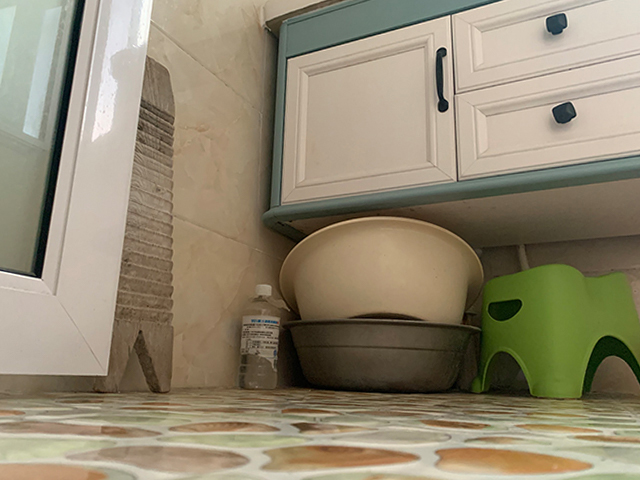stool: (471, 264, 640, 404)
